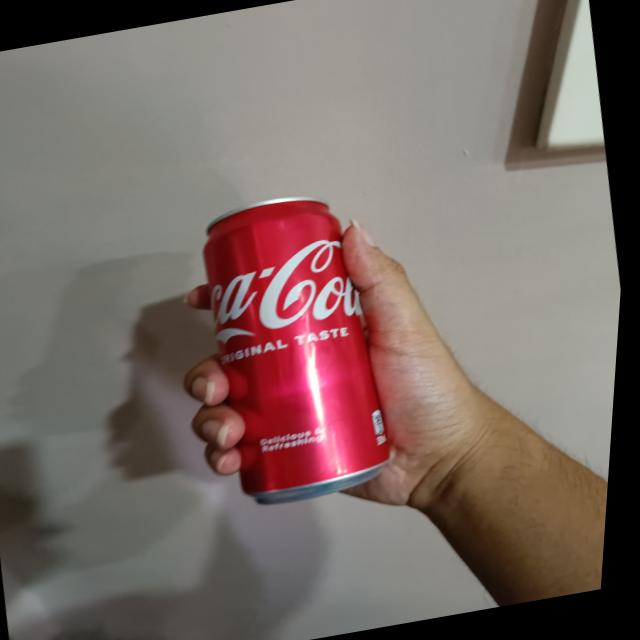coke: (183, 184, 419, 505)
